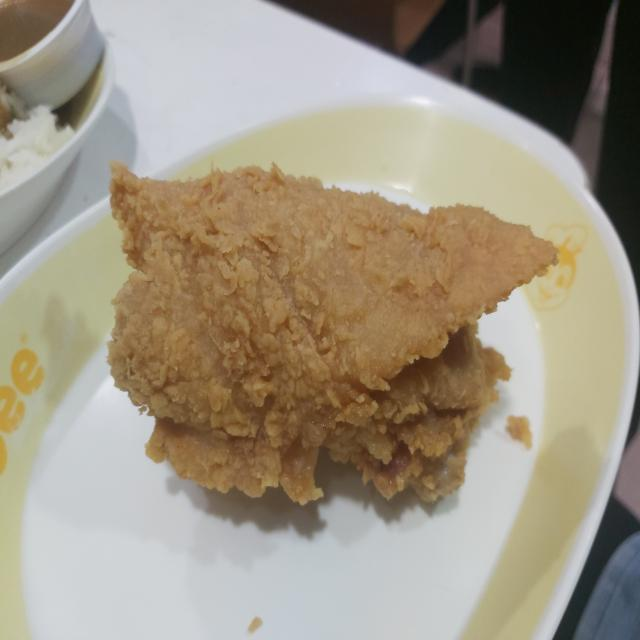Chicken -Fried Chicken-: (86, 139, 592, 562)
